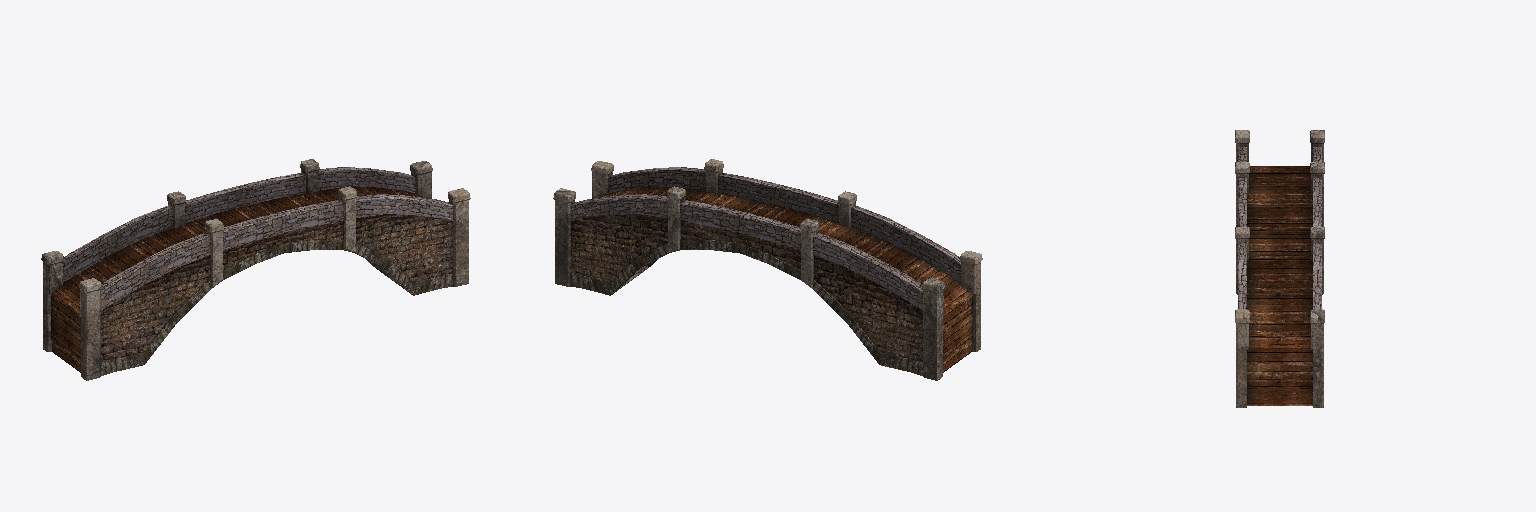
The picture shows the model from 3 angles: view 1: azimuth 30°, elevation 25°; view 2: azimuth 150°, elevation 25°; view 3: azimuth 270°, elevation 25°; orthographic projection.
Visible parts, largest first — view 1: Bridge01; view 2: Bridge01; view 3: Bridge01.
Boxes of the visible parts, <box> form: Bridge01: <box>41,159,470,380</box>; Bridge01: <box>553,159,982,380</box>; Bridge01: <box>1235,130,1324,407</box>.
Bounding box in the file's own units: 2109 × 647 × 429.
1 materials, 1 textured.